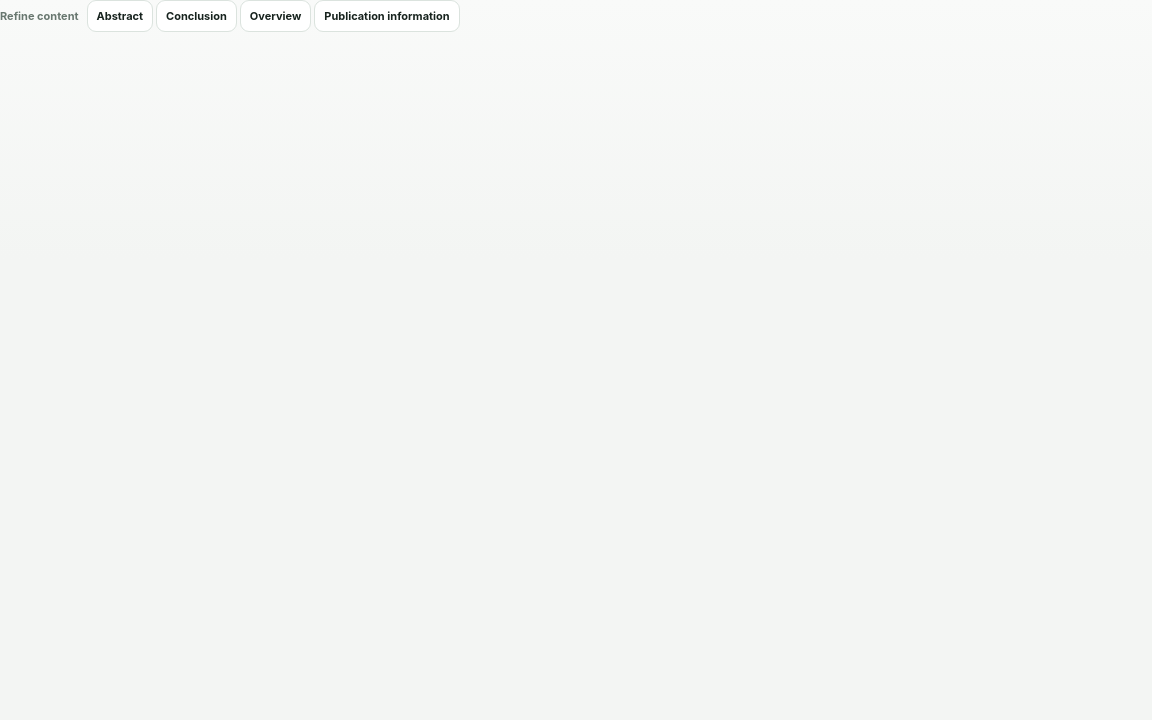
Test: prevents duplicate generation while the server synthesis job is active
Click the button "Abstract": (120, 16) [86, 0, 153, 32]
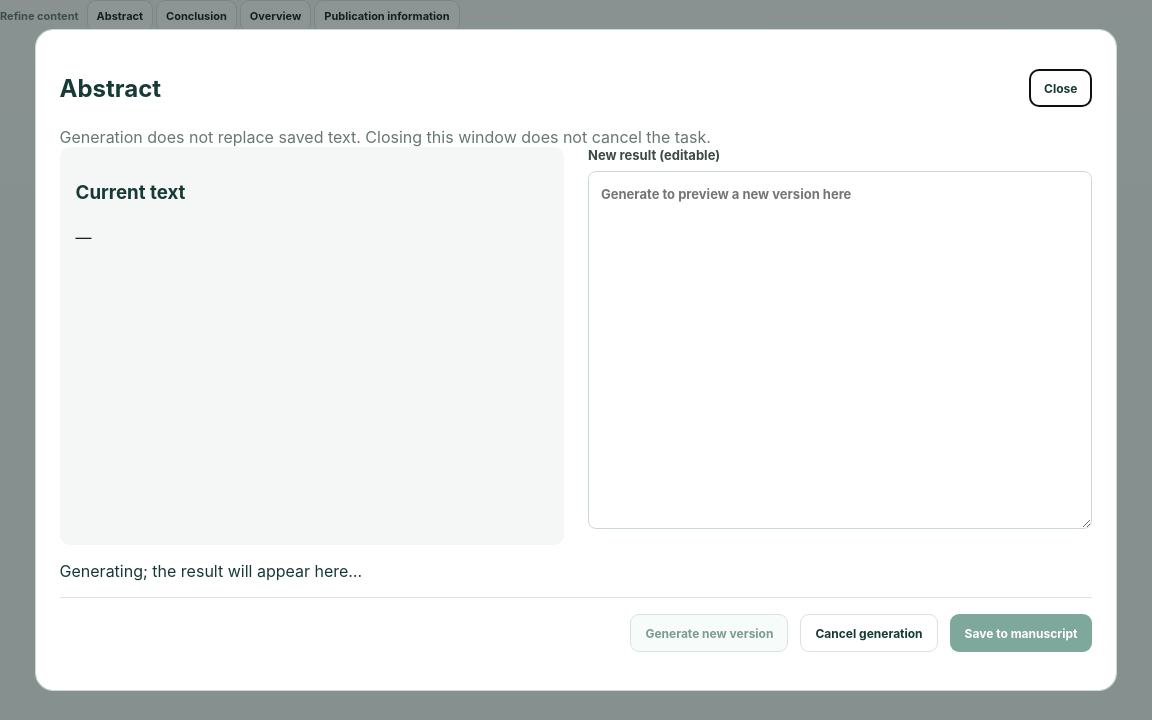
Now the button "Generate new version" is disabled, box [630, 614, 788, 652]
Click the button "Close": (1061, 88) [1029, 69, 1092, 107]
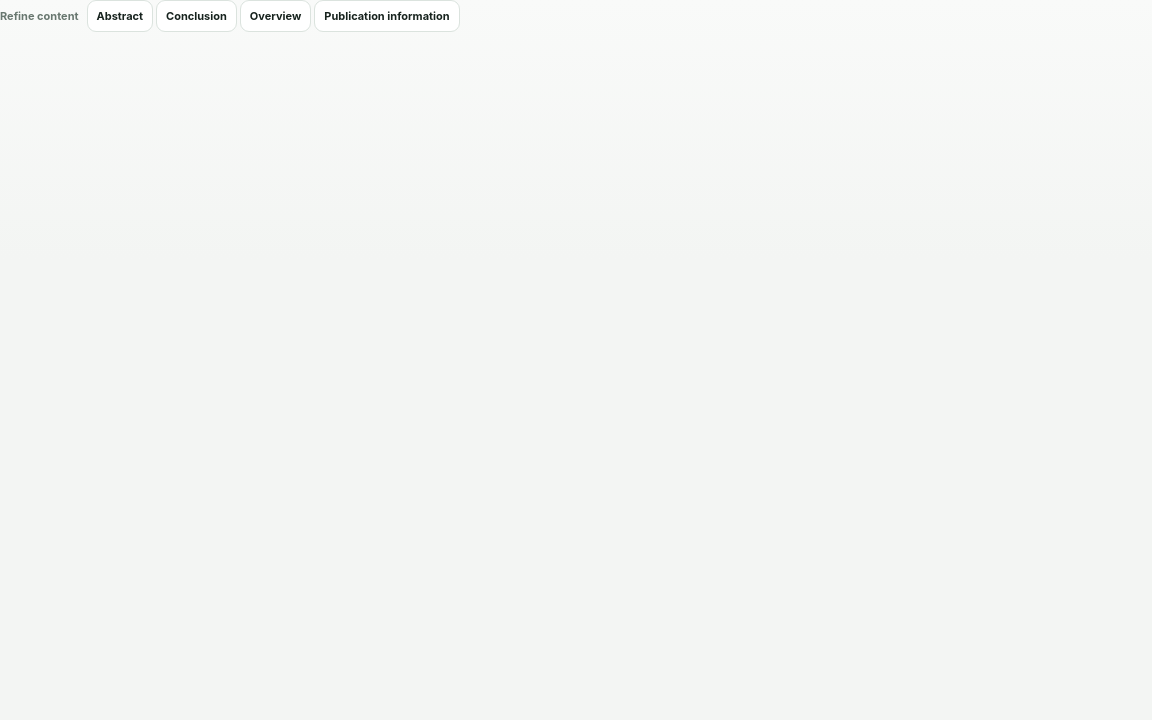
Click the button "Conclusion": (196, 16) [156, 0, 237, 32]
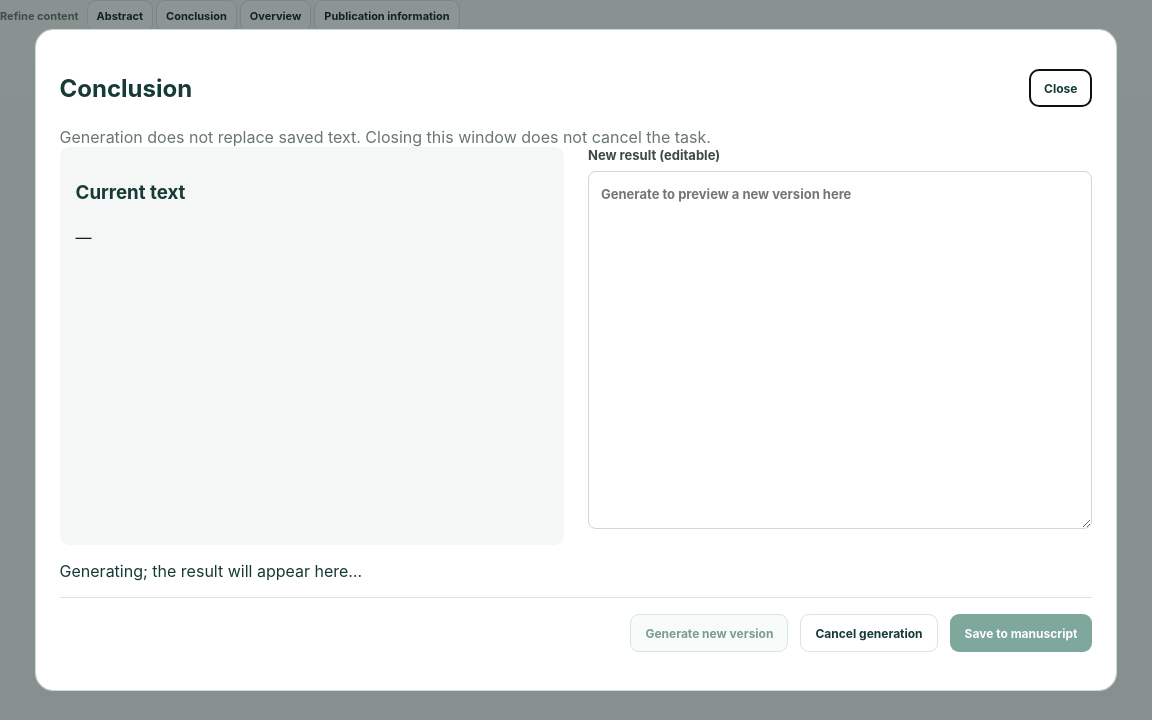
Now the button "Generate new version" is disabled, box [630, 614, 788, 652]
